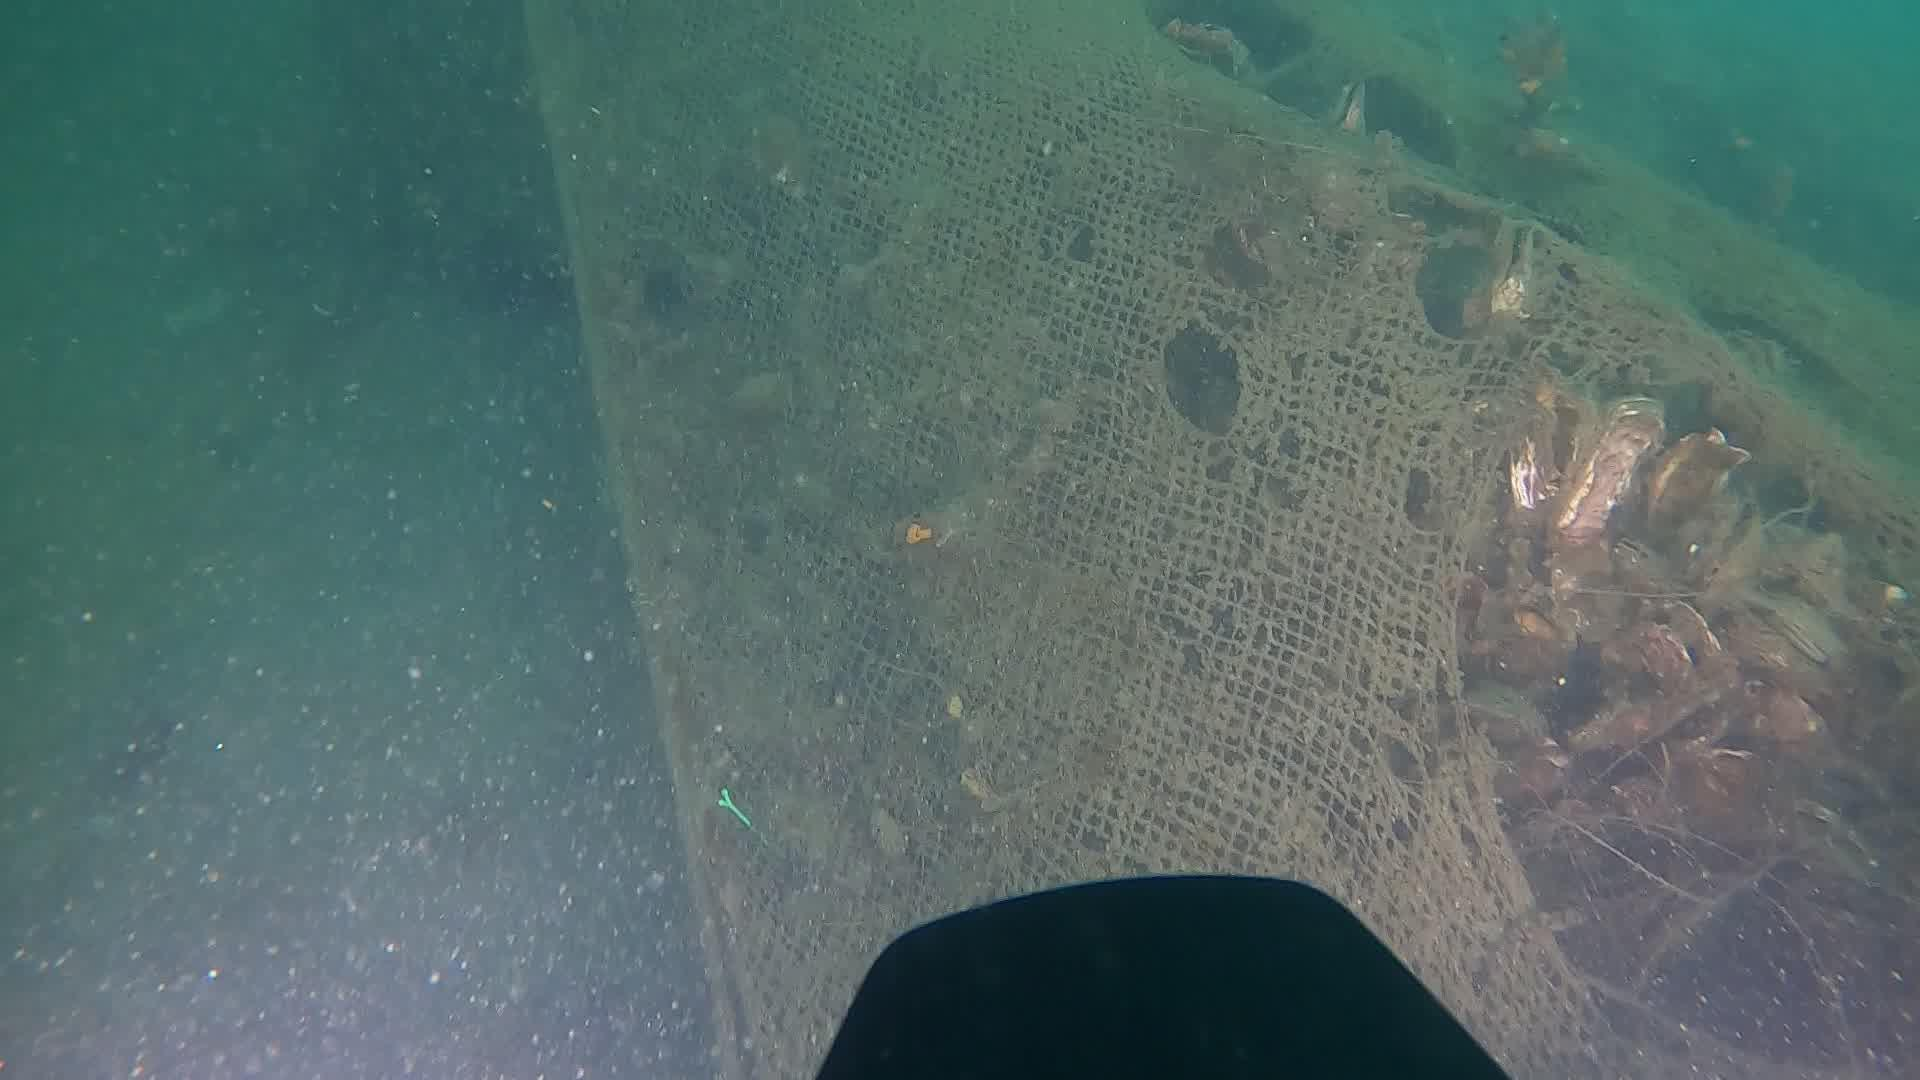fish net: (543, 0, 1636, 1080)
